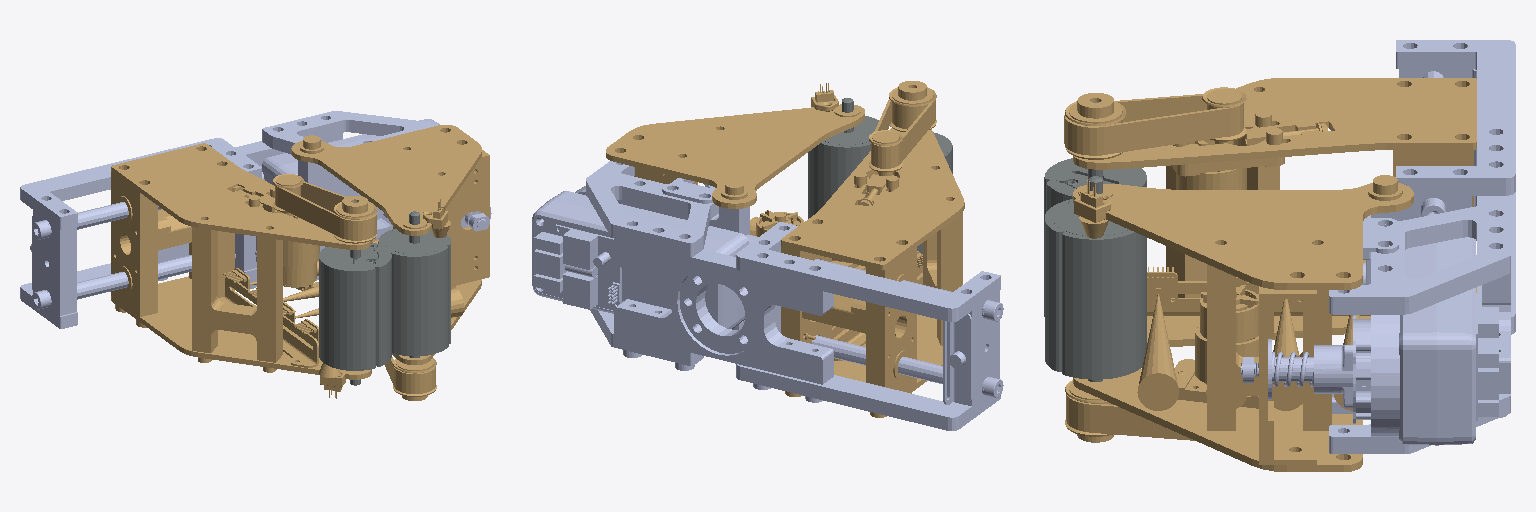
robot.urdf — gripper_description:
<?xml version="1.0" encoding="utf-8"?>
<!-- This URDF was automatically created by SolidWorks to URDF Exporter! Originally created by [author] ([email redacted]) 
     Commit Version: 1.5.1-0-g916b5db  Build Version: 1.5.7152.31018
     For more information, please see http://wiki.ros.org/sw_urdf_exporter -->
<robot
  name="gripper_description">
  <link name="base_link">
    <inertial>
      <origin
        xyz="-1.2189E-07 -1.2713 2.1759E-06"
        rpy="0 0 0" />
      <mass
        value="0.20104" />
      <inertia
        ixx="0.00012096"
        ixy="-3.4543E-10"
        ixz="7.792E-11"
        iyy="0.00021064"
        iyz="2.2037E-09"
        izz="0.00012095" />
    </inertial>
    <visual>
      <origin
        xyz="0 0 0"
        rpy="0 0 0" />
      <geometry>
        <mesh
          filename="package://gripper_description/meshes/base_link.STL" />
      </geometry>
      <material
        name="">
        <color
          rgba="0.79216 0.81961 0.93333 1" />
      </material>
    </visual>
    <collision>
      <origin
        xyz="0 0 0"
        rpy="0 0 0" />
      <geometry>
        <mesh
          filename="package://gripper_description/meshes/base_link.STL" />
      </geometry>
    </collision>
  </link>


  <link name="01_child">
    <inertial>
      <origin
        xyz="0.0094532 -1.3236 -0.0033489"
        rpy="0 0 0" />
      <mass
        value="1.3212" />
      <inertia
        ixx="0.00053176"
        ixy="3.7506E-05"
        ixz="1.1258E-09"
        iyy="0.0024257"
        iyz="4.0938E-08"
        izz="0.0021746" />
    </inertial>
    <visual>
      <origin
        xyz="0 0 0"
        rpy="0 0 0" />
      <geometry>
        <mesh
          filename="package://gripper_description/meshes/01_child.STL" />
      </geometry>
      <material
        name="">
        <color
          rgba="0.79216 0.81961 0.93333 1" />
      </material>
    </visual>
    <collision>
      <origin
        xyz="0 0 0"
        rpy="0 0 0" />
      <geometry>
        <mesh
          filename="package://gripper_description/meshes/01_child.STL" />
      </geometry>
    </collision>
  </link>


  <joint name="f_01child" type="fixed">
    <origin
      xyz="0 0 0"
      rpy="0 0 0" />
    <parent
      link="base_link" />
    <child
      link="01_child" />
    <axis
      xyz="0 0 0" />
  </joint>


  <link name="jaw1">
    <inertial>
      <origin
        xyz="-0.0085346 0.047394 0.082598"
        rpy="0 0 0" />
      <mass
        value="0.40493" />
      <inertia
        ixx="0.00035017"
        ixy="2.2144E-07"
        ixz="1.5411E-08"
        iyy="0.00038396"
        iyz="-3.3172E-05"
        izz="0.00025634" />
    </inertial>
    <visual>
      <origin
        xyz="0 0 0"
        rpy="0 0 0" />
      <geometry>
        <mesh
          filename="package://gripper_description/meshes/jaw1.STL" />
      </geometry>
      <material
        name="">
        <color
          rgba="0.82745 0.69804 0.4902 1" />
      </material>
    </visual>
    <collision>
      <origin
        xyz="0 0 0"
        rpy="0 0 0" />
      <geometry>
        <mesh
          filename="package://gripper_description/meshes/jaw1.STL" />
      </geometry>
    </collision>
  </link>
 
 
  <joint name="fixed_jaw1" type="fixed">
    <origin
      xyz="0.025 -1.503 0"
      rpy="1.5708 -1.5708 3.14159" />
    <parent
      link="01_child" />
    <child
      link="jaw1" />
    <axis
      xyz="0 0 0" />
    <limit
      lower="-0.0872665"
      upper="0.0872665"
      effort="50"
      velocity="100" />
  </joint>


  <link name="rod1">
    <inertial>
      <origin
        xyz="-0.00016212 0.079673 -0.00023128"
        rpy="0 0 0" />
      <mass
        value="0.23263" />
      <inertia
        ixx="0.00021456"
        ixy="-1.3392E-11"
        ixz="4.1162E-06"
        iyy="5.3561E-05"
        iyz="7.8804E-12"
        izz="0.00022185" />
    </inertial>
    <visual>
      <origin
        xyz="0 0 0"
        rpy="0 0 0" />
      <geometry>
        <mesh
          filename="package://gripper_description/meshes/rod1.STL" />
      </geometry>
      <material
        name="">
        <color
          rgba="0.52941 0.54902 0.54902 1" />
      </material>
    </visual>
    <collision>
      <origin
        xyz="0 0 0"
        rpy="0 0 0" />
      <geometry>
        <mesh
          filename="package://gripper_description/meshes/rod1.STL" />
      </geometry>
    </collision>
  </link>
  
  
  <joint name="c_rod1" type="continuous">
    <origin
      xyz="-0.081888 0 0"
      rpy="3.1416 0.58586 1.5708" />
    <parent
      link="jaw1" />
    <child
      link="rod1" />
    <axis
      xyz="0 1 0" />
    <limit
      effort="50"
      velocity="100" />
  </joint>
  
  
  <link name="rod2">
    <inertial>
      <origin
        xyz="-0.098 -1.328 8.1314E-17"
        rpy="0 0 0" />
      <mass
        value="0.033326" />
      <inertia
        ixx="6.3581E-07"
        ixy="3.8774E-23"
        ixz="1.6156E-23"
        iyy="6.3516E-05"
        iyz="-2.6552E-25"
        izz="6.3516E-05" />
    </inertial>
    <visual>
      <origin
        xyz="0 0 0"
        rpy="0 0 0" />
      <geometry>
        <mesh
          filename="package://gripper_description/meshes/rod2.STL" />
      </geometry>
      <material
        name="">
        <color
          rgba="0.79216 0.81961 0.93333 1" />
      </material>
    </visual>
    <collision>
      <origin
        xyz="0 0 0"
        rpy="0 0 0" />
      <geometry>
        <mesh
          filename="package://gripper_description/meshes/rod2.STL" />
      </geometry>
    </collision>
  </link>
  
  
  <joint name="f_rod2" type="fixed">
    <origin
      xyz="0 0 0"
      rpy="0 0 0" />
    <parent
      link="01_child" />
    <child
      link="rod2" />
    <axis
      xyz="0 0 0" />
  </joint>
  
  
  <link name="jaw2">
    <inertial>
      <origin
        xyz="-0.063785 -1.38 -0.002598"
        rpy="0 0 0" />
      <mass
        value="0.81068" />
      <inertia
        ixx="0.0007992"
        ixy="0.00010843"
        ixz="-1.2528E-07"
        iyy="0.00051604"
        iyz="-2.7791E-07"
        izz="0.00060318" />
    </inertial>
    <visual>
      <origin
        xyz="0 0 0"
        rpy="0 0 0" />
      <geometry>
        <mesh
          filename="package://gripper_description/meshes/jaw2.STL" />
      </geometry>
      <material
        name="">
        <color
          rgba="0.82745 0.69804 0.4902 1" />
      </material>
    </visual>
    <collision>
      <origin
        xyz="0 0 0"
        rpy="0 0 0" />
      <geometry>
        <mesh
          filename="package://gripper_description/meshes/jaw2.STL" />
      </geometry>
    </collision>
  </link>
  
  
  <joint name="p_jaw2" type="prismatic">
    <origin
      xyz="0 0 0"
      rpy="0 0 0" />
    <parent
      link="rod2" />
    <child
      link="jaw2" />
    <axis
      xyz="-1 0 0" />
    <limit
      lower="0"
      upper="0.05"
      effort="50"
      velocity="100" />
  </joint>
  
  
  <link name="rod3">
    <inertial>
      <origin
        xyz="-0.000287482481318269 0.0796731129142511 2.27008169670917E-05"
        rpy="0 0 0" />
      <mass
        value="0.232866245737791" />
      <inertia
        ixx="0.000223656460602869"
        ixy="-4.85120700596206E-13"
        ixz="7.44206671716712E-07"
        iyy="5.35773404241321E-05"
        iyz="1.44557114747249E-11"
        izz="0.000212754182688039" />
    </inertial>
    <visual>
      <origin
        xyz="0 0 0"
        rpy="0 0 0" />
      <geometry>
        <mesh
          filename="package://gripper_description/meshes/rod3.STL" />
      </geometry>
      <material
        name="">
        <color
          rgba="0.529411764705882 0.549019607843137 0.549019607843137 1" />
      </material>
    </visual>
    <collision>
      <origin
        xyz="0 0 0"
        rpy="0 0 0" />
      <geometry>
        <mesh
          filename="package://gripper_description/meshes/rod3.STL" />
      </geometry>
    </collision>
  </link>
  
  
  <joint name="c_rod3" type="continuous">
    <origin
      xyz="-0.025 -1.503 0.081888"
      rpy="-1.5708 0 -0.55284" />
    <parent
      link="jaw2" />
    <child
      link="rod3" />
    <axis
      xyz="0 1 0" />
    <limit
      effort="50"
      velocity="100" />
  </joint>

  
</robot>

--- Render facts (derived) ---
3 views of the same robot in one strip: view 1: azimuth 30°, elevation 25°; view 2: azimuth 150°, elevation 25°; view 3: azimuth 270°, elevation 25° (orthographic).
Robot: gripper_description — 7 links, 6 joints (2 continuous, 1 prismatic, 3 fixed); root link base_link; default pose: all joints at 0.
Visible links, largest first — view 1: jaw2, jaw1, 01_child, rod3, rod1, rod2; view 2: 01_child, jaw2, jaw1, rod1, rod2; view 3: 01_child, jaw1, jaw2, rod1, rod3.
Link boxes in pixels (bbox=[...]): jaw2: bbox=[111, 143, 463, 398]; jaw1: bbox=[291, 125, 489, 400]; 01_child: bbox=[20, 111, 491, 328]; rod3: bbox=[319, 202, 391, 385]; rod1: bbox=[378, 211, 450, 357]; rod2: bbox=[77, 202, 235, 299]; 01_child: bbox=[532, 161, 1003, 430]; jaw2: bbox=[750, 81, 964, 417]; jaw1: bbox=[606, 83, 865, 270]; rod1: bbox=[808, 98, 878, 218]; rod2: bbox=[812, 259, 952, 383]; 01_child: bbox=[1241, 40, 1515, 453]; jaw1: bbox=[1065, 175, 1413, 471]; jaw2: bbox=[1064, 78, 1476, 410]; rod1: bbox=[1045, 176, 1146, 381]; rod3: bbox=[1044, 102, 1146, 316].
Bounding box of the posed robot: 0.3521 × 0.2441 × 0.168 m (x, y, z).
6 mesh visuals loaded from 7 distinct referenced files (6 binary STL); not drawn: 1 (reference not matched to a file when rendering).